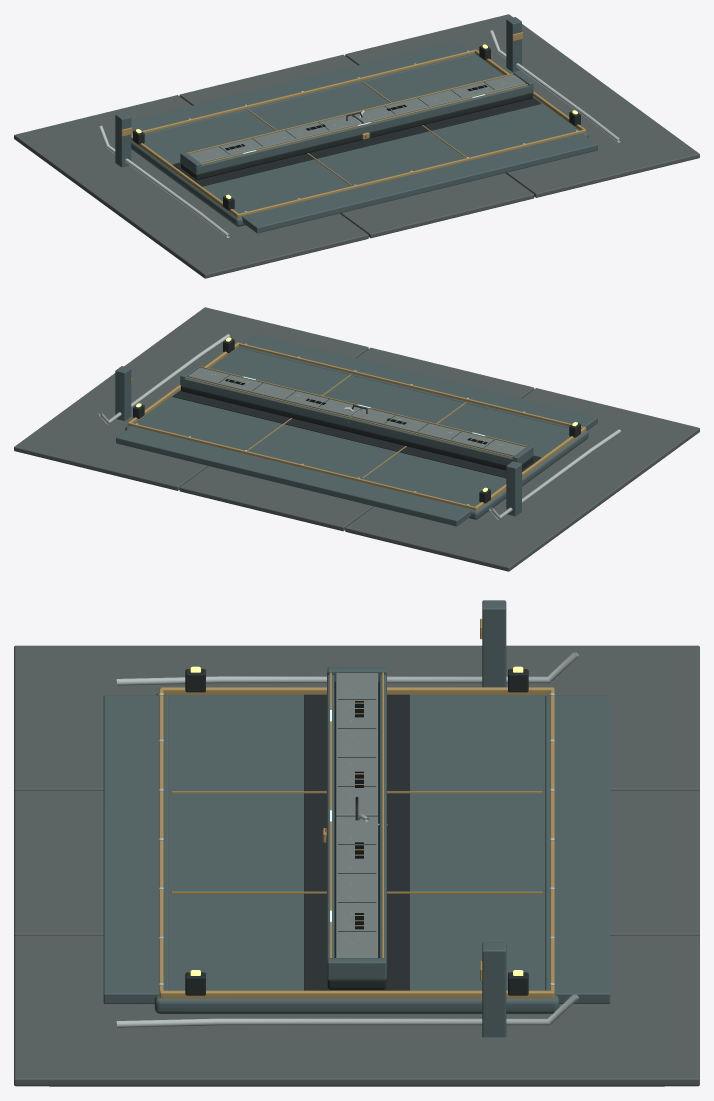
The model's file is equipment-library-v3.glb.
The picture shows the model from 3 angles, top to bottom: view 1: azimuth 30°, elevation 25°; view 2: azimuth 150°, elevation 25°; view 3: azimuth 270°, elevation 25°; orthographic projection. The views are drawn at different scales.
Parts seen in each view (by area): view 1: Battle platform, Concrete slab, Concrete slab.002, Concrete slab.001, Threshold docking rail, Threshold docking rail.001, Door header, Central inlay, Door foundation, DoorLeft_panel, DoorRight_panel, Brass frame (+9 smaller); view 2: Battle platform, Concrete slab, Concrete slab.002, Concrete slab.001, Threshold docking rail.001, Threshold docking rail, Door header.001, Central inlay, DoorLeft_panel, DoorRight_panel, Door foundation, Brass frame.001 (+9 smaller); view 3: Battle platform, Concrete slab.002, Concrete slab, Concrete slab.001, Threshold docking rail, Threshold docking rail.001, Central inlay, DoorLeft_panel, DoorRight_panel, Exposed conduit.001, Side frame.001, Exposed conduit (+11 smaller).
Boxes of the visible parts, <box> form: Battle platform: <box>131,53,588,226</box>; Concrete slab: <box>14,95,368,278</box>; Concrete slab.002: <box>345,14,699,197</box>; Concrete slab.001: <box>179,54,534,238</box>; Threshold docking rail: <box>241,133,597,233</box>; Threshold docking rail.001: <box>131,41,474,135</box>; Door header: <box>197,85,532,174</box>; Central inlay: <box>172,97,541,186</box>; Door foundation: <box>181,93,532,180</box>; DoorLeft_panel: <box>188,115,361,163</box>; DoorRight_panel: <box>352,74,525,123</box>; Brass frame: <box>238,130,585,217</box>; Battle platform: <box>125,346,588,519</box>; Concrete slab: <box>345,388,699,571</box>; Concrete slab.002: <box>14,307,368,490</box>; Concrete slab.001: <box>179,347,534,531</box>; Threshold docking rail.001: <box>116,426,472,526</box>; Threshold docking rail: <box>239,334,597,430</box>; Door header.001: <box>181,378,516,465</box>; Central inlay: <box>172,390,541,478</box>; DoorLeft_panel: <box>352,408,525,456</box>; DoorRight_panel: <box>188,367,361,417</box>; Door foundation: <box>181,386,532,470</box>; Brass frame.001: <box>128,423,475,510</box>; Battle platform: <box>154,693,559,1013</box>; Concrete slab.002: <box>14,935,699,1086</box>; Concrete slab: <box>14,645,699,791</box>; Concrete slab.001: <box>14,790,699,936</box>; Threshold docking rail: <box>103,695,168,1003</box>; Threshold docking rail.001: <box>545,695,610,1003</box>; Central inlay: <box>304,694,409,990</box>; DoorLeft_panel: <box>335,673,378,817</box>; DoorRight_panel: <box>335,817,378,957</box>; Exposed conduit.001: <box>116,993,578,1027</box>; Side frame.001: <box>159,990,554,998</box>; Exposed conduit: <box>116,651,578,685</box>.
Bounding box in the file's own units: 14.96 × 1.75 × 10.
